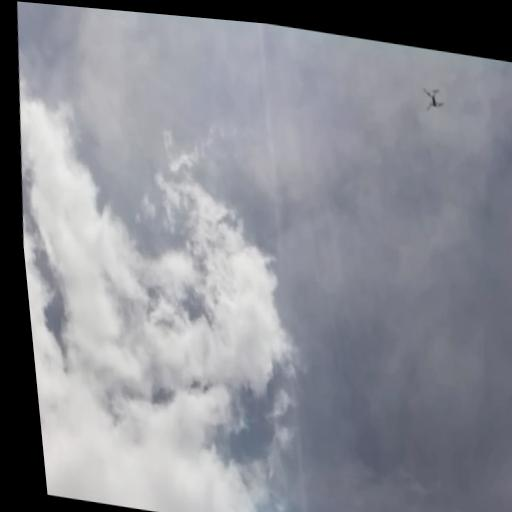drones: (416, 81, 448, 116)
